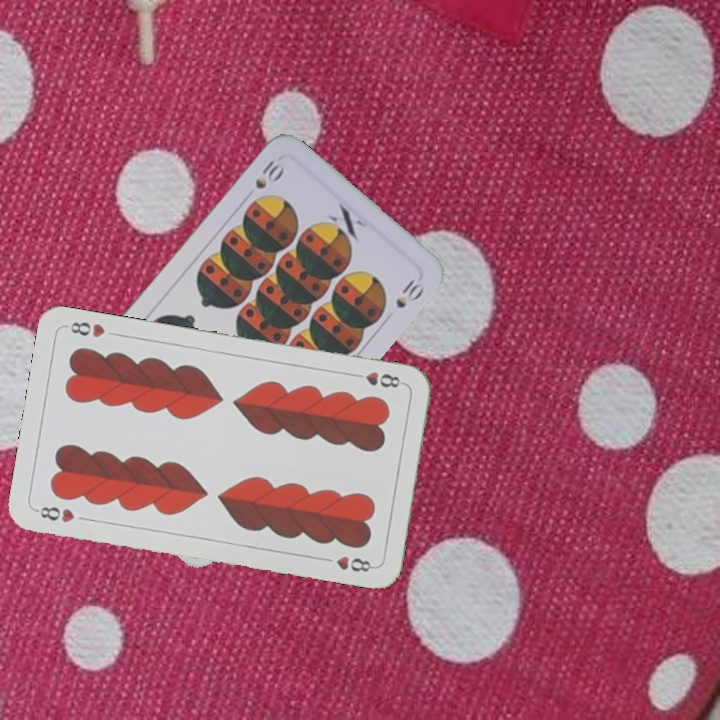H8: (348, 368, 407, 391), (31, 502, 77, 525)
S10: (250, 156, 287, 192)
